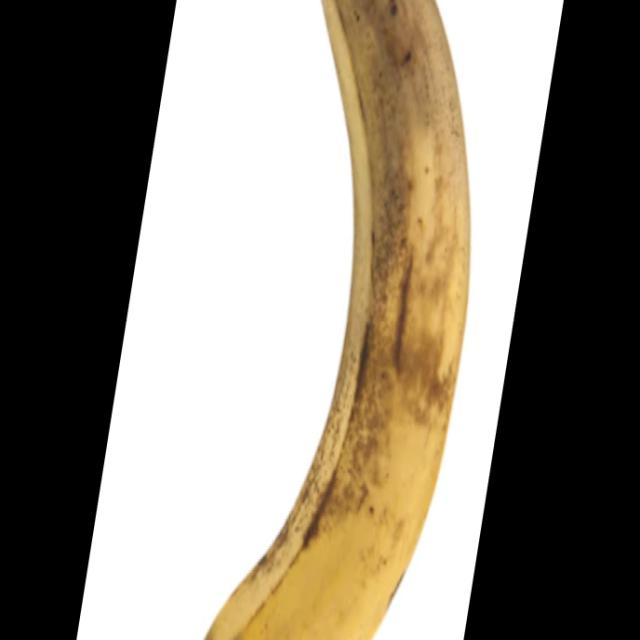overripe: (207, 0, 469, 640)
